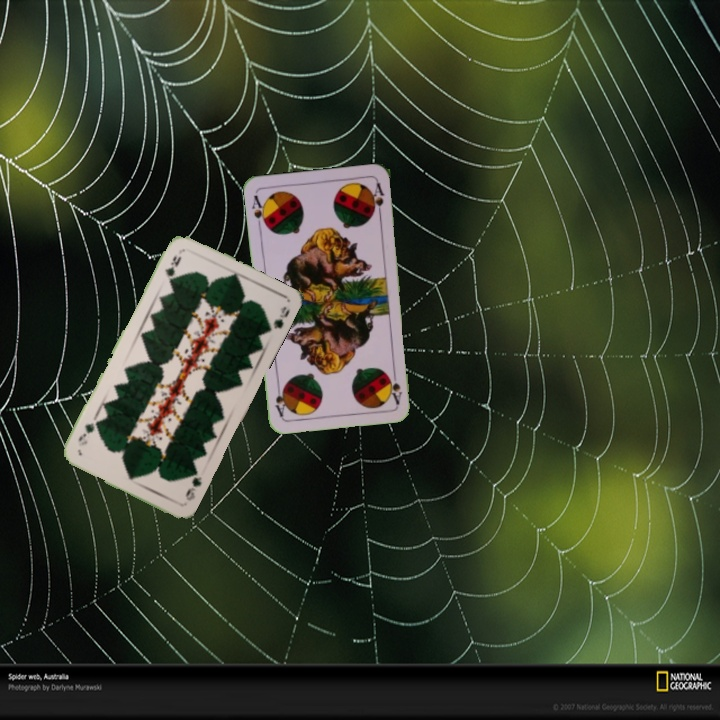G9: (181, 466, 204, 503), (161, 252, 184, 285)
SA: (248, 191, 270, 231), (387, 366, 404, 406)
